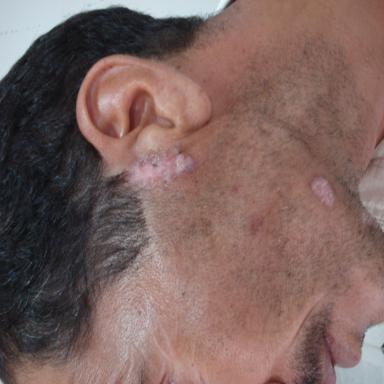Lupus-Erythematosus-Chronicus-Discoides: (129, 153, 194, 187), (311, 177, 335, 207)
